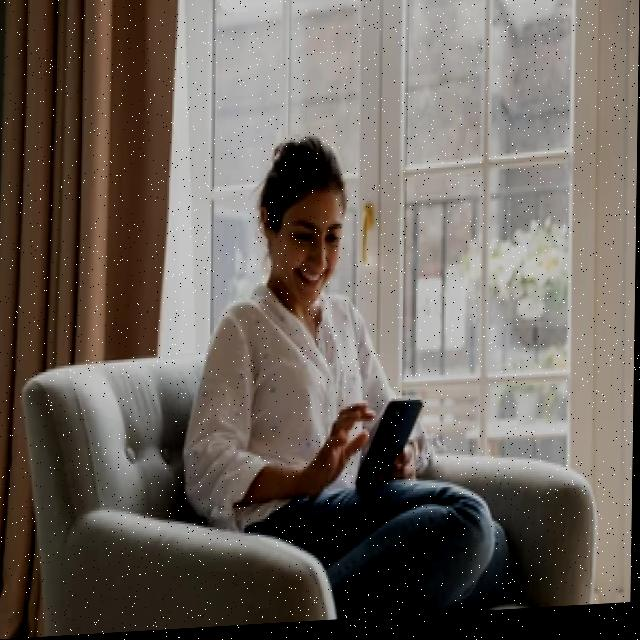smartphone-person: (172, 116, 445, 574)
